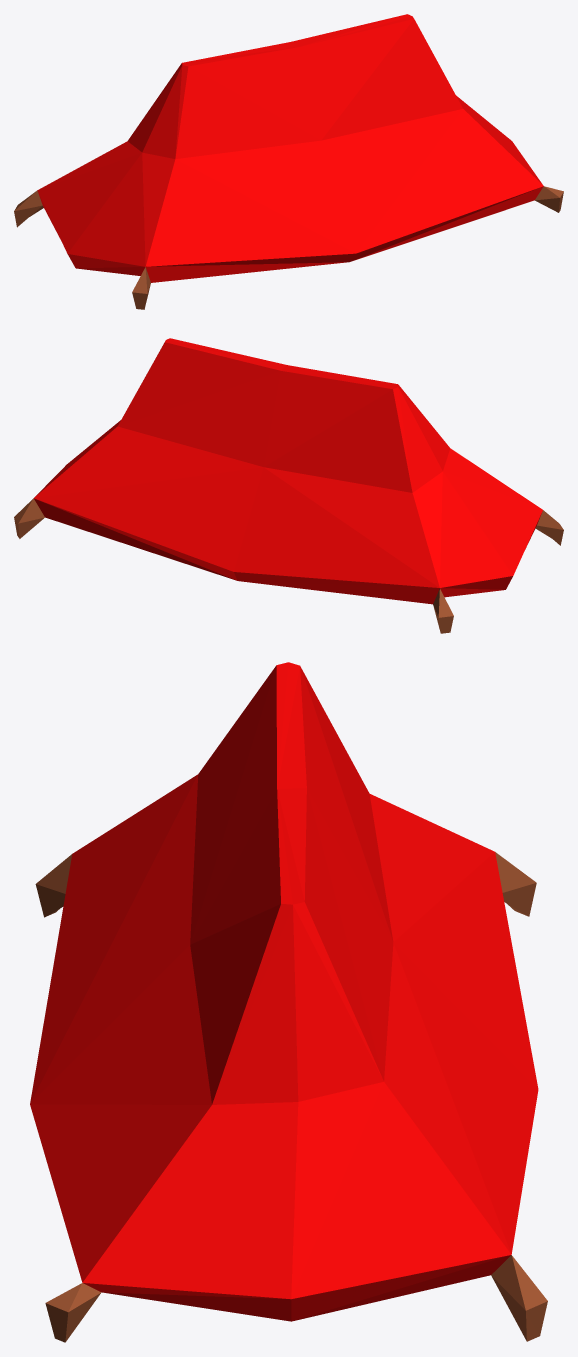
File: Prop_Building_Savage_Tribal_Roof_Cloth_Timber_Peaked_03.FBX
3 views of the same model, one above another, from view 1: azimuth 30°, elevation 25°; view 2: azimuth 150°, elevation 25°; view 3: azimuth 270°, elevation 25° (orthographic). The views are drawn at different scales.
Parts seen in each view (by area): view 1: Prop_Building_Savage_Tribal_Roof_Cloth_Timber_Peaked_03; view 2: Prop_Building_Savage_Tribal_Roof_Cloth_Timber_Peaked_03; view 3: Prop_Building_Savage_Tribal_Roof_Cloth_Timber_Peaked_03.
Boxes of the visible parts, x1=… form: Prop_Building_Savage_Tribal_Roof_Cloth_Timber_Peaked_03: x1=14, y1=14, x2=563, y2=309; Prop_Building_Savage_Tribal_Roof_Cloth_Timber_Peaked_03: x1=14, y1=338, x2=563, y2=633; Prop_Building_Savage_Tribal_Roof_Cloth_Timber_Peaked_03: x1=30, y1=662, x2=547, y2=1342.
Bounding box in the file's own units: 14131 × 5548 × 7116.
